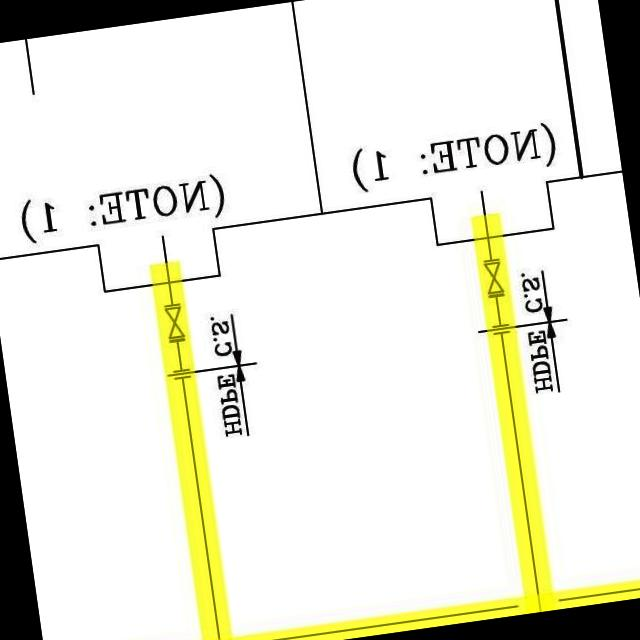GV: (158, 302, 189, 346), (478, 258, 508, 302)
